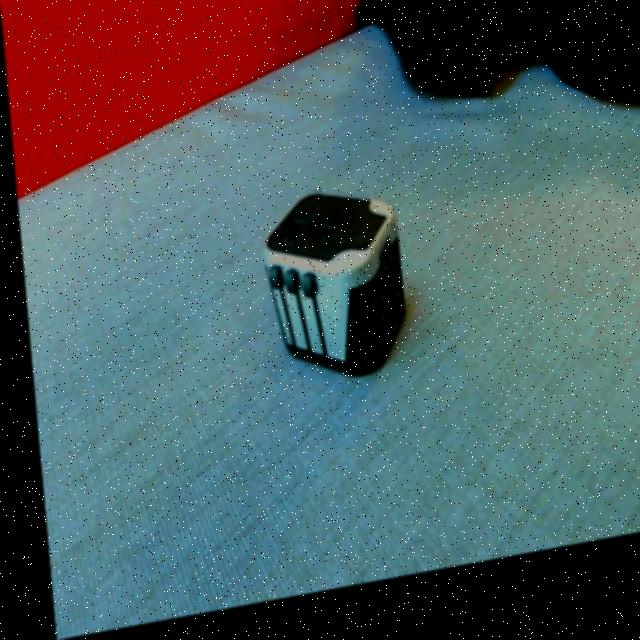adapter: (253, 189, 403, 401)
